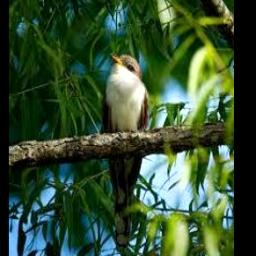Cuckoo: (103, 52, 150, 248)
